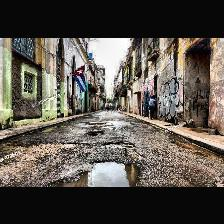pothole: (41, 158, 142, 183), (124, 140, 140, 158), (104, 140, 134, 148), (82, 120, 106, 124), (86, 130, 104, 134)
